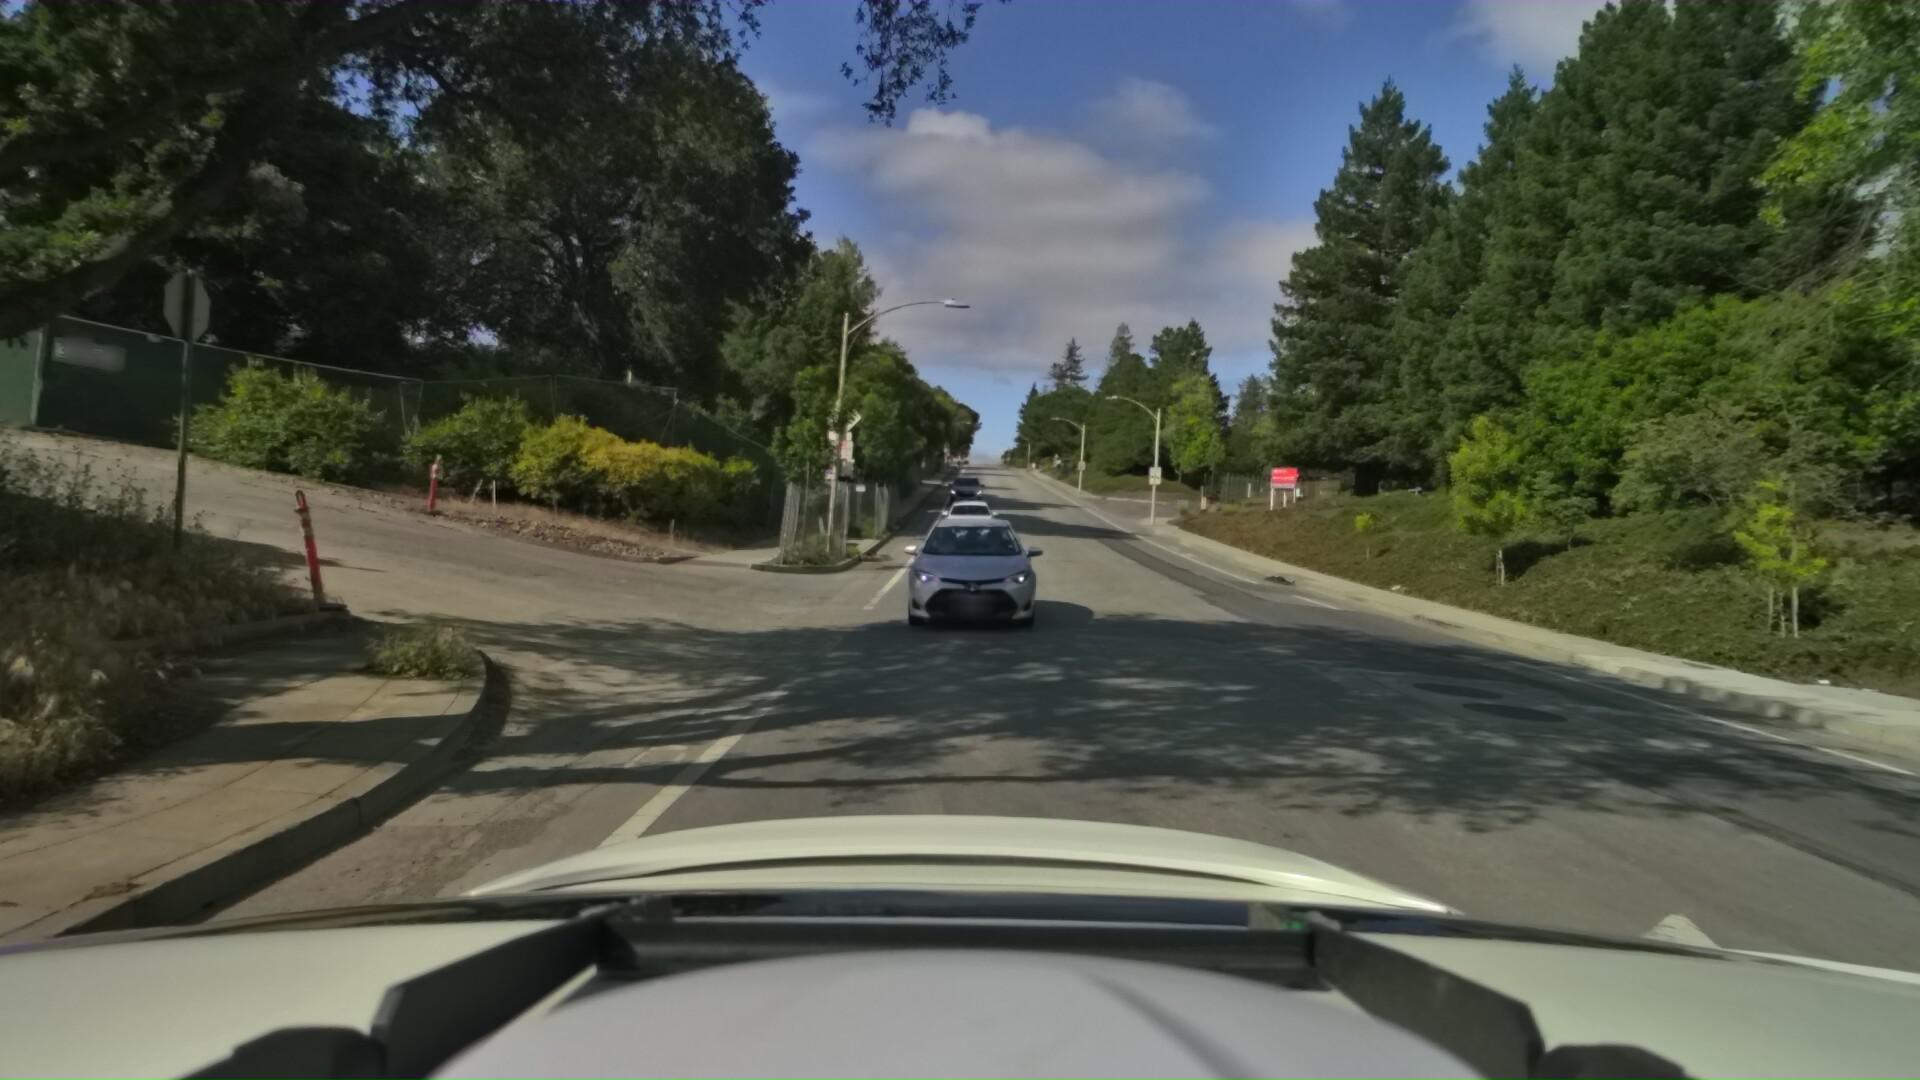car: (894, 502, 1044, 638), (939, 491, 997, 543), (942, 469, 980, 504)
